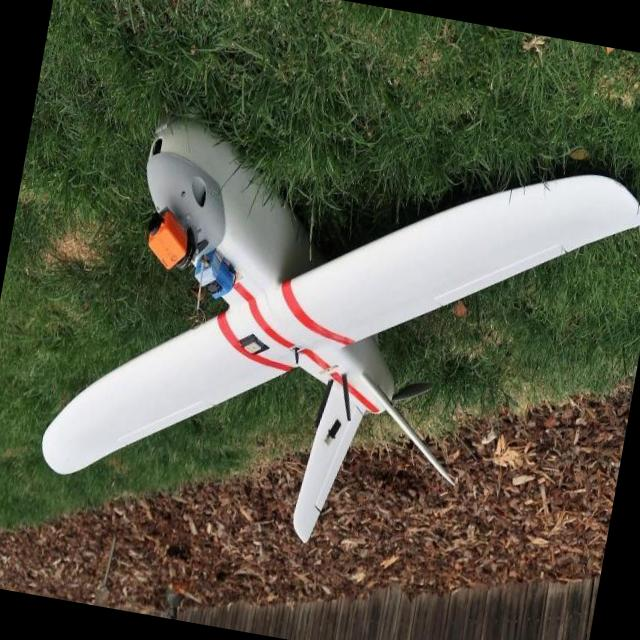UAV: (49, 76, 604, 580)
